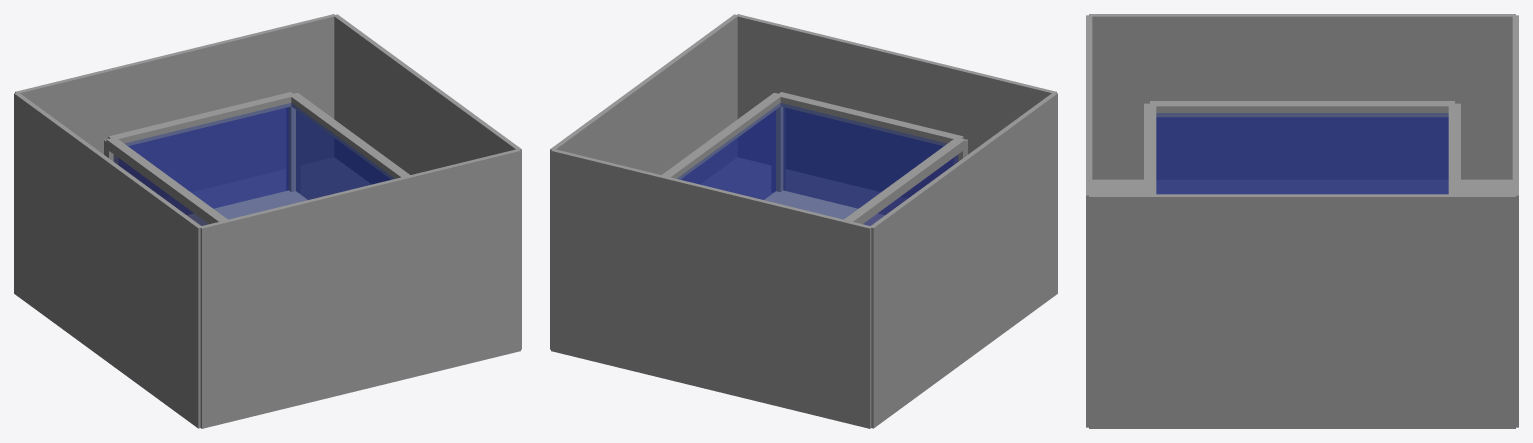
File: testbed.obj
The picture shows the model from 3 angles, left to right: view 1: azimuth 30°, elevation 25°; view 2: azimuth 150°, elevation 25°; view 3: azimuth 270°, elevation 25°; orthographic projection. The views are drawn at different scales.
Parts seen in each view (by area): view 1: Raum_Cube.008, Wasser_Plane.001, Glaswand_Cube, Verstrebungen_Cube.013, Boden_Cube.001, Beckenboden_Cube.015; view 2: Raum_Cube.008, Wasser_Plane.001, Glaswand_Cube, Verstrebungen_Cube.013, Boden_Cube.001, Beckenboden_Cube.015; view 3: Raum_Cube.008, Wasser_Plane.001, Glaswand_Cube, Verstrebungen_Cube.013, Boden_Cube.001.
Boxes of the visible parts, bbox=[...] form: Raum_Cube.008: bbox=[14, 14, 521, 428]; Wasser_Plane.001: bbox=[125, 103, 394, 219]; Glaswand_Cube: bbox=[113, 107, 390, 225]; Verstrebungen_Cube.013: bbox=[104, 92, 410, 223]; Boden_Cube.001: bbox=[191, 157, 370, 208]; Beckenboden_Cube.015: bbox=[187, 190, 307, 225]; Raum_Cube.008: bbox=[550, 14, 1057, 428]; Wasser_Plane.001: bbox=[677, 103, 946, 219]; Glaswand_Cube: bbox=[681, 107, 958, 225]; Verstrebungen_Cube.013: bbox=[661, 92, 967, 223]; Boden_Cube.001: bbox=[701, 157, 880, 208]; Beckenboden_Cube.015: bbox=[764, 190, 884, 225]; Raum_Cube.008: bbox=[1086, 14, 1518, 428]; Wasser_Plane.001: bbox=[1156, 113, 1448, 193]; Glaswand_Cube: bbox=[1156, 117, 1448, 193]; Verstrebungen_Cube.013: bbox=[1144, 101, 1460, 194]; Boden_Cube.001: bbox=[1092, 179, 1512, 194].
Bounding box in the file's own units: 14.2 × 8.4 × 14.2.
